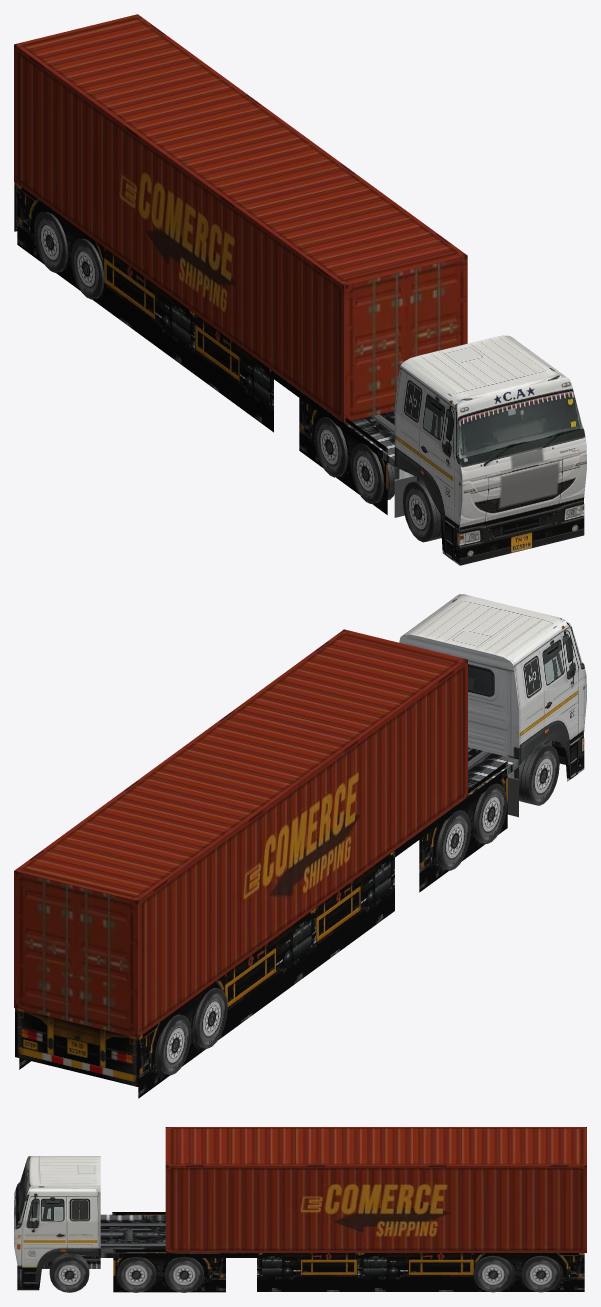
Rendered from signa_lod.glb.
3 renders of one model, top to bottom at view 1: azimuth 30°, elevation 25°; view 2: azimuth 150°, elevation 25°; view 3: azimuth 270°, elevation 25°, orthographic. The views are drawn at different scales.
Parts seen in each view (by area): view 1: Container_container01textred_0, truck_body_pasted__pasted__truck_cabin_0, truck_body_pasted__pasted__side_chachis_0, pasted__pCylinder11_pasted__tyer_0, truck_body_pasted__pasted__chchis_0; view 2: Container_container01textred_0, truck_body_pasted__pasted__truck_cabin_0, truck_body_pasted__pasted__side_chachis_0, pasted__pCylinder11_pasted__tyer_0, truck_body_back_palne_0, truck_body_pasted__pasted__chchis_0; view 3: Container_container01textred_0, truck_body_pasted__pasted__side_chachis_0, truck_body_pasted__pasted__truck_cabin_0, pasted__pCylinder11_pasted__tyer_0, truck_body_pasted__pasted__chchis_0.
Part boxes in pixels (x1=…): Container_container01textred_0: x1=14, y1=14, x2=467, y2=422; truck_body_pasted__pasted__truck_cabin_0: x1=394, y1=335, x2=586, y2=565; truck_body_pasted__pasted__side_chachis_0: x1=17, y1=184, x2=387, y2=514; pasted__pCylinder11_pasted__tyer_0: x1=35, y1=212, x2=441, y2=542; truck_body_pasted__pasted__chchis_0: x1=271, y1=370, x2=421, y2=480; Container_container01textred_0: x1=14, y1=629, x2=467, y2=1037; truck_body_pasted__pasted__truck_cabin_0: x1=399, y1=594, x2=586, y2=781; truck_body_pasted__pasted__side_chachis_0: x1=19, y1=761, x2=507, y2=1098; pasted__pCylinder11_pasted__tyer_0: x1=158, y1=743, x2=559, y2=1075; truck_body_back_palne_0: x1=15, y1=1008, x2=139, y2=1087; truck_body_pasted__pasted__chchis_0: x1=393, y1=738, x2=551, y2=857; Container_container01textred_0: x1=165, y1=1127, x2=586, y2=1252; truck_body_pasted__pasted__side_chachis_0: x1=112, y1=1212, x2=584, y2=1292; truck_body_pasted__pasted__truck_cabin_0: x1=14, y1=1156, x2=100, y2=1290; pasted__pCylinder11_pasted__tyer_0: x1=49, y1=1253, x2=560, y2=1292; truck_body_pasted__pasted__chchis_0: x1=42, y1=1214, x2=258, y2=1268.
Bounding box in the file's own units: 2.47 × 3.74 × 15.27.
7 materials, 6 textured.
